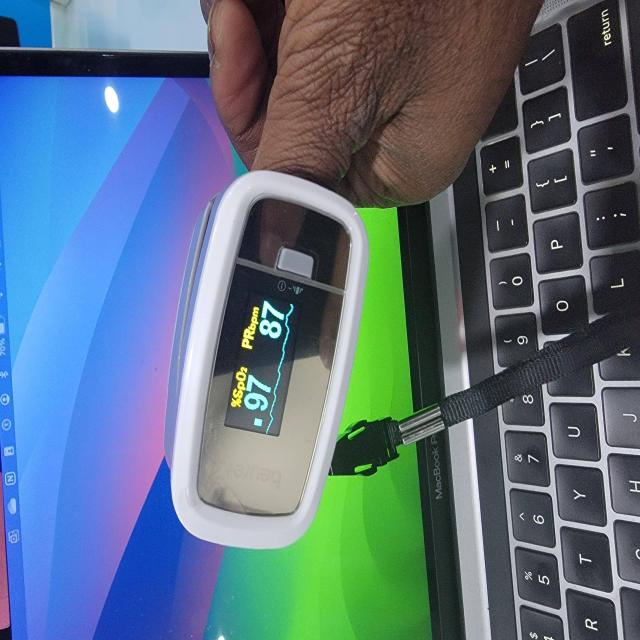spo2: (168, 171, 367, 553)
